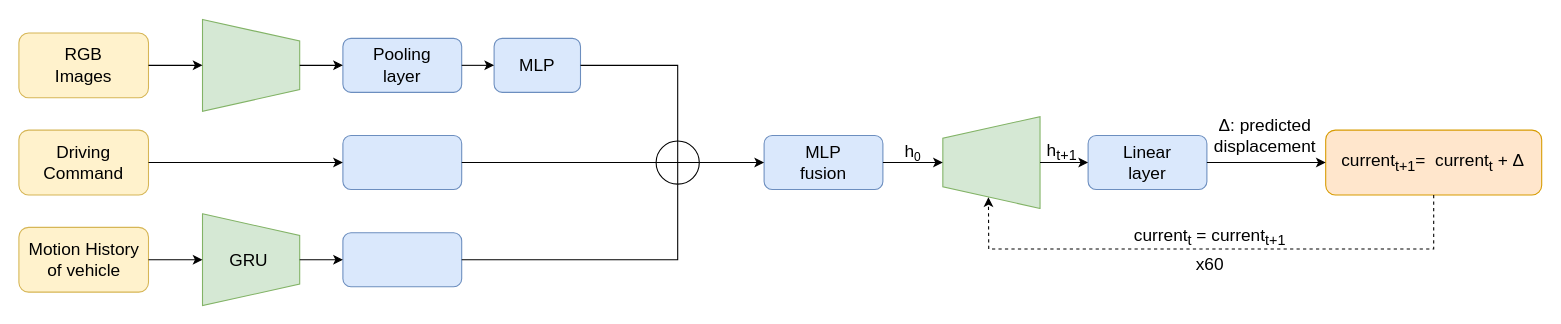
Image size: 1561x324. Some labels were removed from this diagram. The shapes that lost their labels are listed below. From the top down, each one's box as (x1, y1, x2, y2) in pixels, then its label:
(201, 18, 300, 111): ResNet34
(342, 134, 462, 190): Embedding layer
(942, 116, 1040, 208): GRUcell
(342, 232, 462, 287): Temporal Attention
